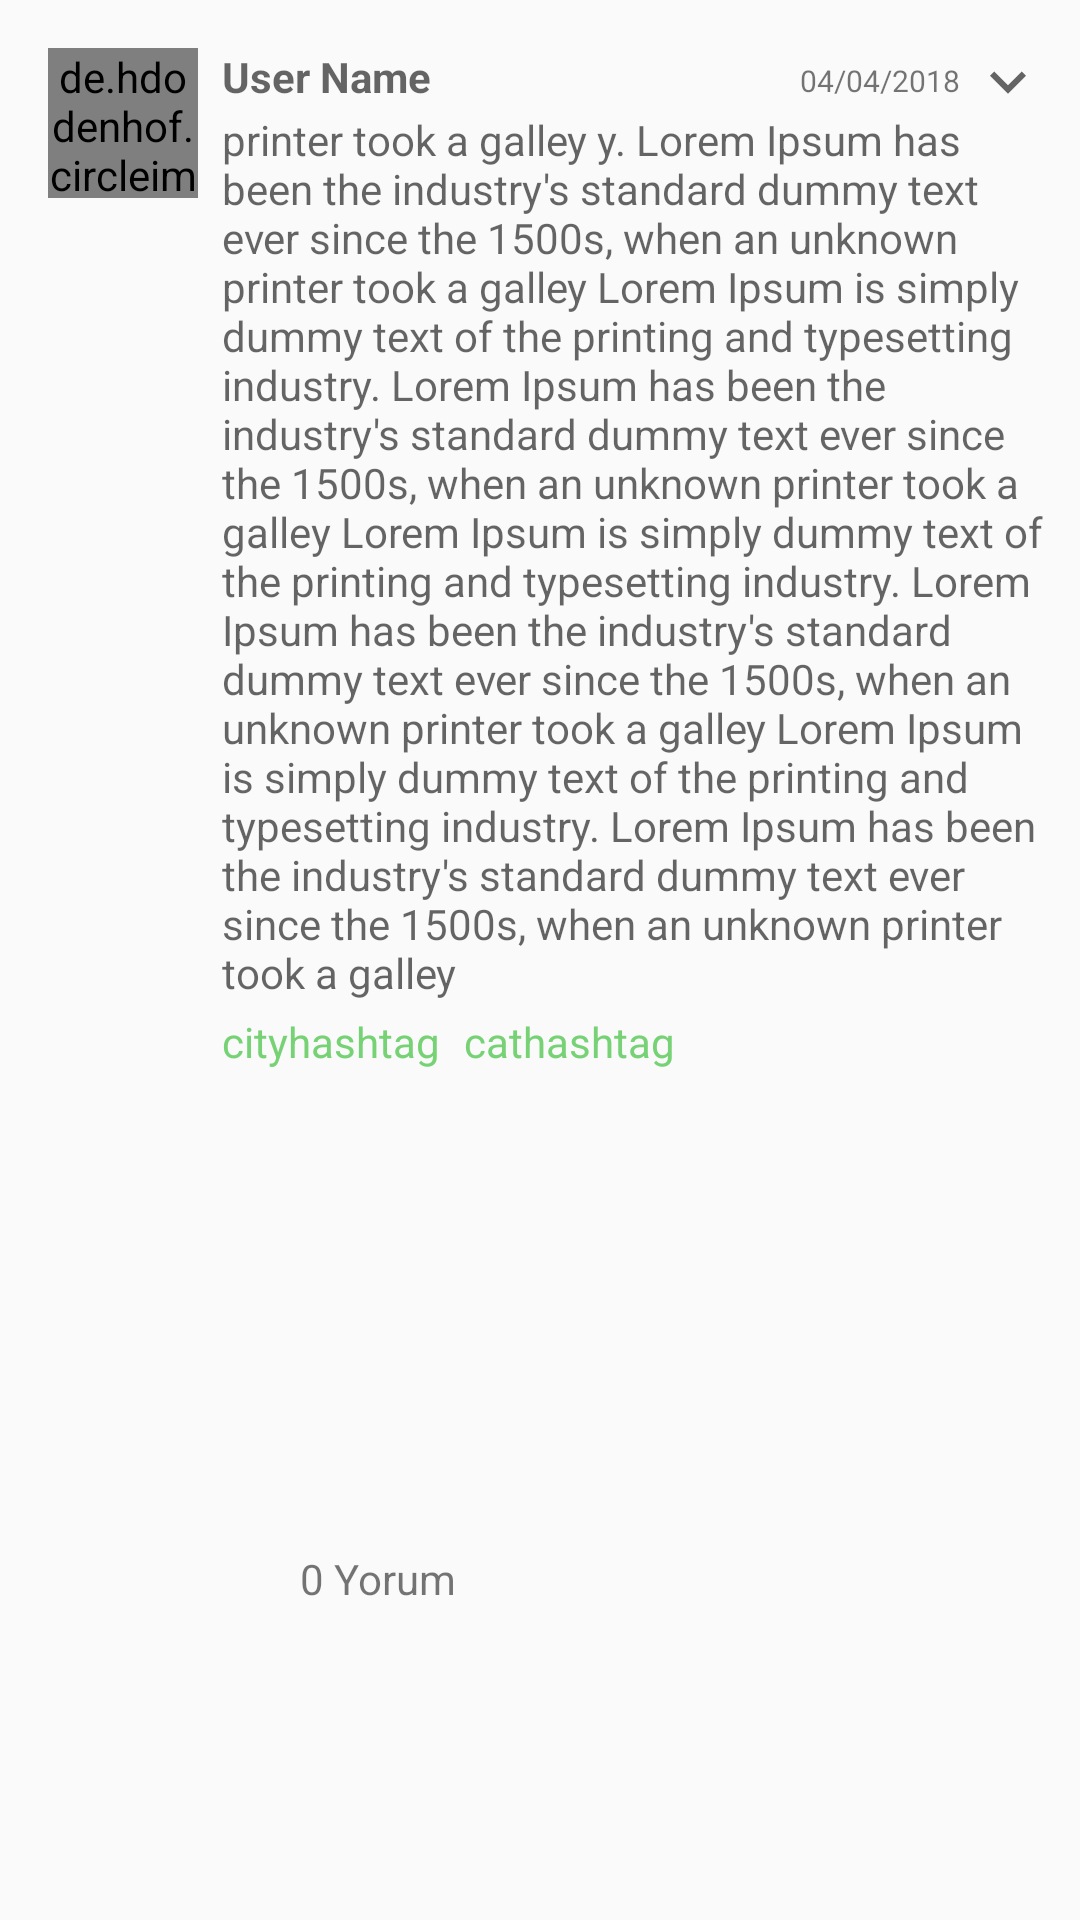

Point at icon controls on the screen. Image size 1080 × 1920, points as point (x, y).
keyboard arrow down: point (1008, 82)
